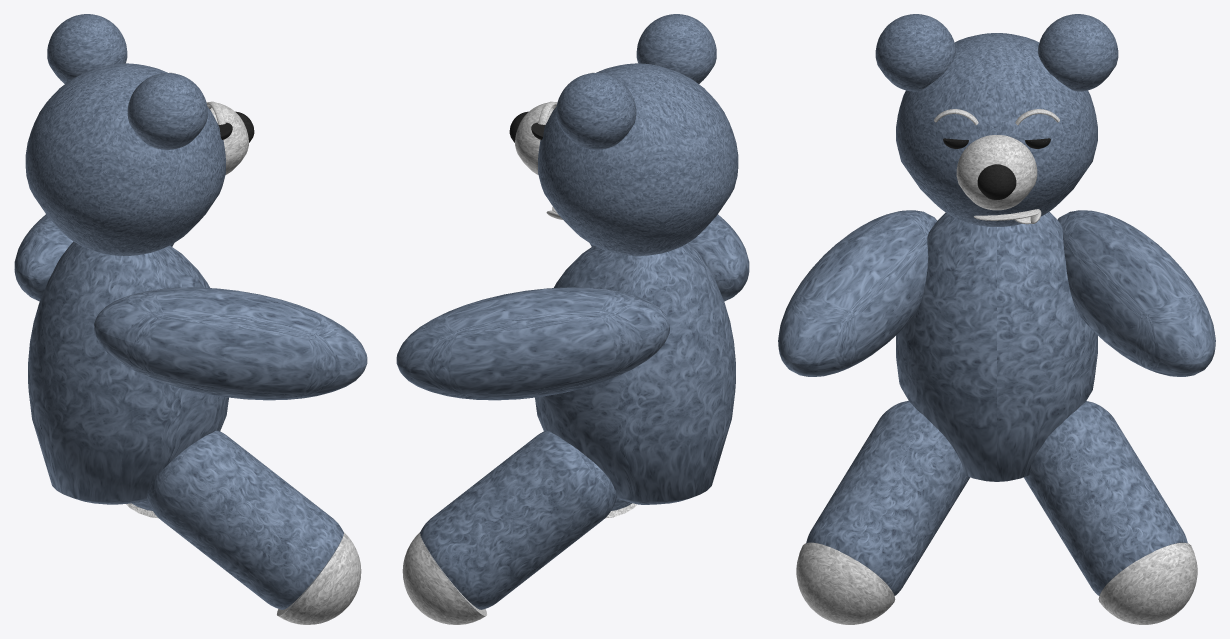
Rendered from Teddy Bear.fbx.
3 views of the same model, side by side, from view 1: azimuth 30°, elevation 25°; view 2: azimuth 150°, elevation 25°; view 3: azimuth 270°, elevation 25° (orthographic).
Visible parts, largest first — view 1: Sphere, Sphere.002, Cube.001, Cylinder.001, Sphere.004, Sphere.003, Sphere.011, Cube, Sphere.009; view 2: Sphere, Sphere.002, Cube, Cylinder, Sphere.003, Sphere.004, Sphere.010, Cube.001, Sphere.009; view 3: Sphere, Sphere.002, Cube, Cube.001, Cylinder, Cylinder.001, Sphere.010, Sphere.011, Sphere.004, Sphere.003, Sphere.009, Sphere.008.
Boxes of the visible parts, x1,y1,x2,y2 form: Sphere: (28, 241, 228, 504); Sphere.002: (25, 63, 225, 255); Cube.001: (94, 287, 367, 400); Cylinder.001: (147, 430, 343, 610); Sphere.004: (127, 73, 207, 149); Sphere.003: (47, 14, 127, 83); Sphere.011: (277, 532, 361, 624); Cube: (14, 214, 174, 301); Sphere.009: (206, 102, 248, 174); Sphere: (535, 242, 735, 504); Sphere.002: (538, 63, 738, 255); Cube: (396, 287, 669, 400); Cylinder: (420, 430, 616, 610); Sphere.003: (556, 73, 636, 149); Sphere.004: (636, 14, 716, 83); Sphere.010: (402, 532, 486, 624); Cube.001: (589, 214, 749, 301); Sphere.009: (515, 102, 557, 174); Sphere: (896, 211, 1097, 481); Sphere.002: (896, 33, 1097, 226); Cube: (1057, 210, 1215, 376); Cube.001: (778, 210, 937, 376); Cylinder: (1024, 401, 1187, 595); Cylinder.001: (806, 400, 969, 595); Sphere.010: (1098, 542, 1197, 624); Sphere.011: (796, 542, 895, 624); Sphere.004: (875, 14, 956, 91); Sphere.003: (1037, 14, 1118, 91); Sphere.009: (956, 135, 1037, 210); Sphere.008: (977, 164, 1016, 199).
Bounding box in the file's own units: 5.21 × 11.22 × 8.11.
